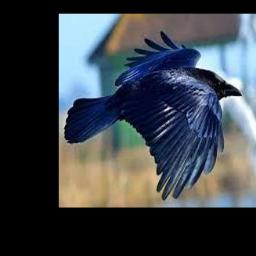Crow: (63, 30, 242, 201)
